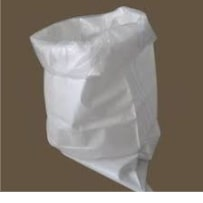kantong: (25, 8, 171, 193)
